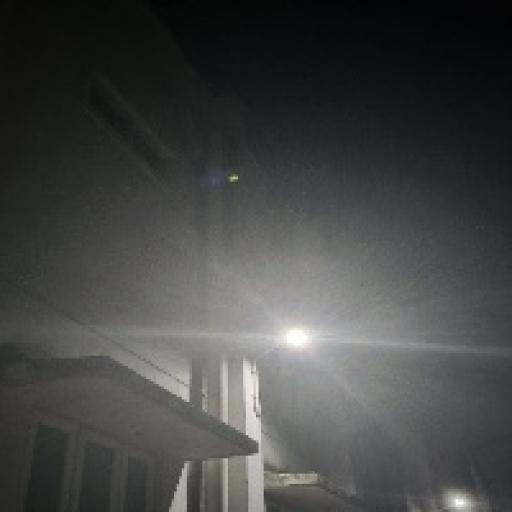Working: (274, 323, 322, 359), (445, 488, 474, 512)
